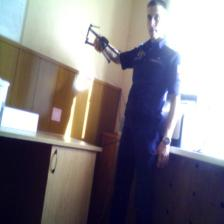drone: (84, 19, 120, 71)
